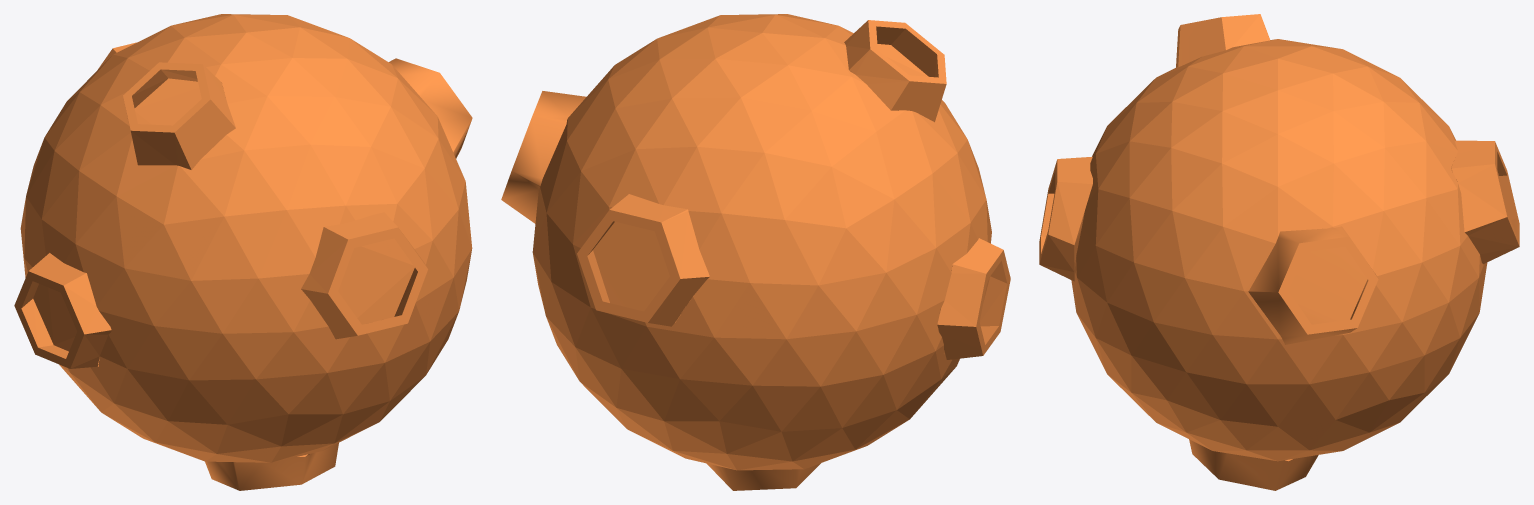
Rendered from planet2.fbx.
3 renders of one model, left to right at view 1: azimuth 30°, elevation 25°; view 2: azimuth 150°, elevation 25°; view 3: azimuth 270°, elevation 25°, orthographic. The views are drawn at different scales.
Visible parts, largest first — view 1: GeoSphere001; view 2: GeoSphere001; view 3: GeoSphere001.
Boxes of the visible parts, x1,y1,x2,y2 form: GeoSphere001: (14, 14, 472, 490); GeoSphere001: (501, 14, 1010, 490); GeoSphere001: (1039, 14, 1519, 490).
Size of the model in its own units: 648 by 618 by 641.
